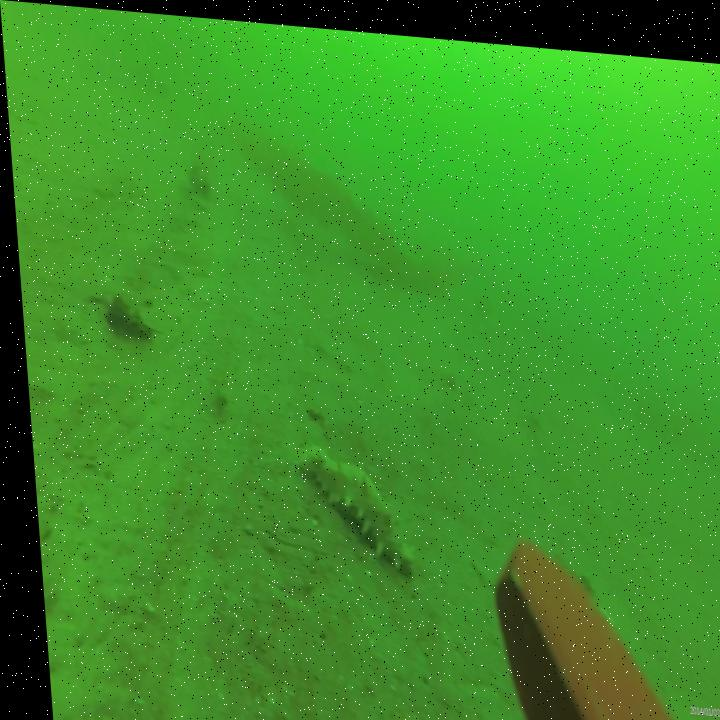holothurian: (289, 435, 408, 573)
